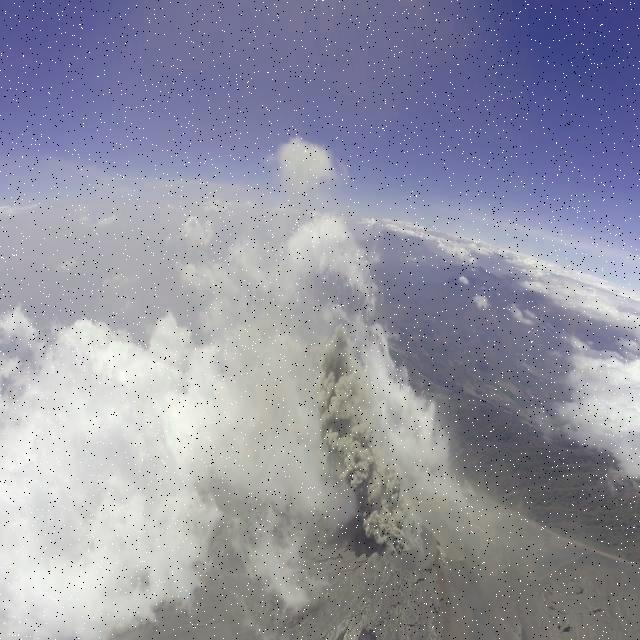Plume: (312, 320, 432, 556)
Summit: (316, 496, 504, 640)
